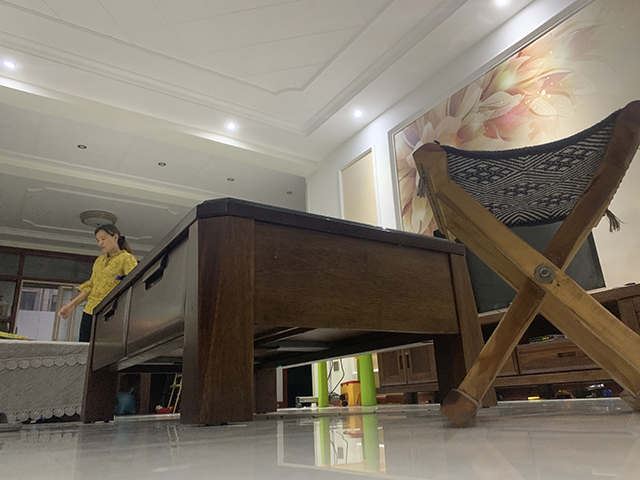cabinet: (376, 282, 640, 405)
stool: (410, 98, 640, 429)
table: (79, 196, 499, 428)
